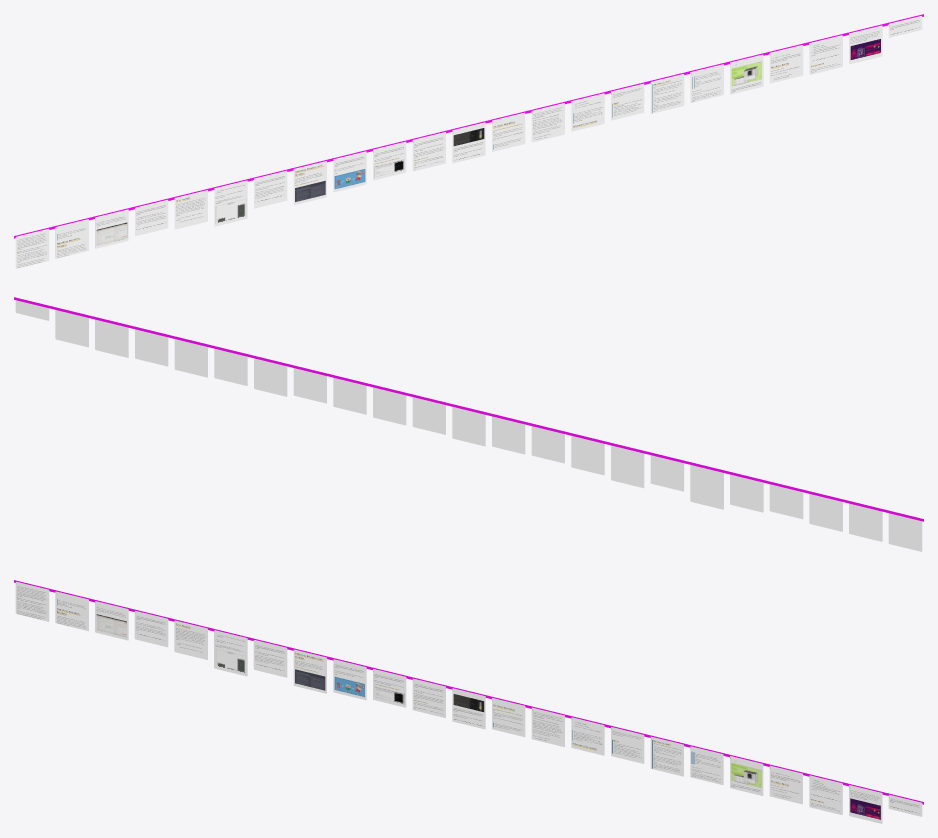
The model's file is content.glb.
3 renders of one model, top to bottom at view 1: azimuth 30°, elevation 25°; view 2: azimuth 150°, elevation 25°; view 3: azimuth 330°, elevation 25°, orthographic.
Visible parts, largest first — view 1: polygonI_merged, plane (×2); view 2: polygonI_merged; view 3: polygonI_merged, plane (×3).
Boxes of the visible parts, x1,y1,x2,y2 form: polygonI_merged: (14,14,923,268); plane (×2): (215,61,761,223); polygonI_merged: (14,297,923,551); polygonI_merged: (14,580,923,823); plane (×3): (96,614,761,787).
Bounding box in the file's own units: 2.01 × 0.0837 × 0.000281.
Materials: 2 (2 with a texture image).
